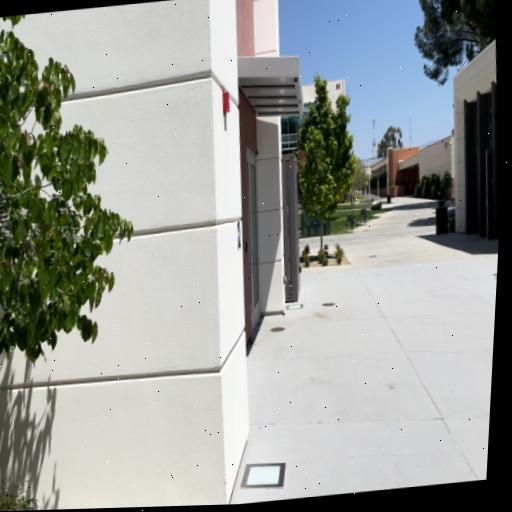target9: (238, 221, 241, 248)
